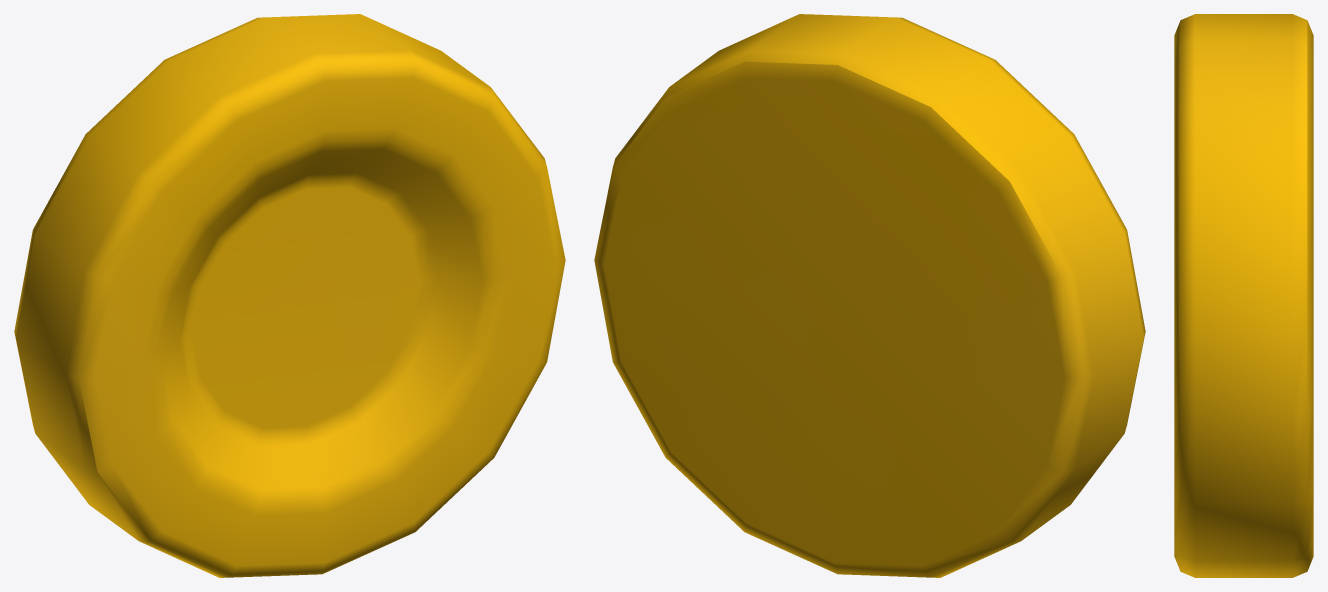
3 renders of one model, left to right at view 1: azimuth 30°, elevation 25°; view 2: azimuth 150°, elevation 25°; view 3: azimuth 270°, elevation 25°, orthographic.
Parts seen in each view (by area): view 1: model_0.040; view 2: model_0.040; view 3: model_0.040.
Boxes of the visible parts, left/top/right/bottom form: model_0.040: left=14, top=14, right=565, bottom=577; model_0.040: left=594, top=14, right=1145, bottom=577; model_0.040: left=1174, top=14, right=1313, bottom=577.
Bounding box in the file's own units: 3.52 × 3.52 × 0.8666.
